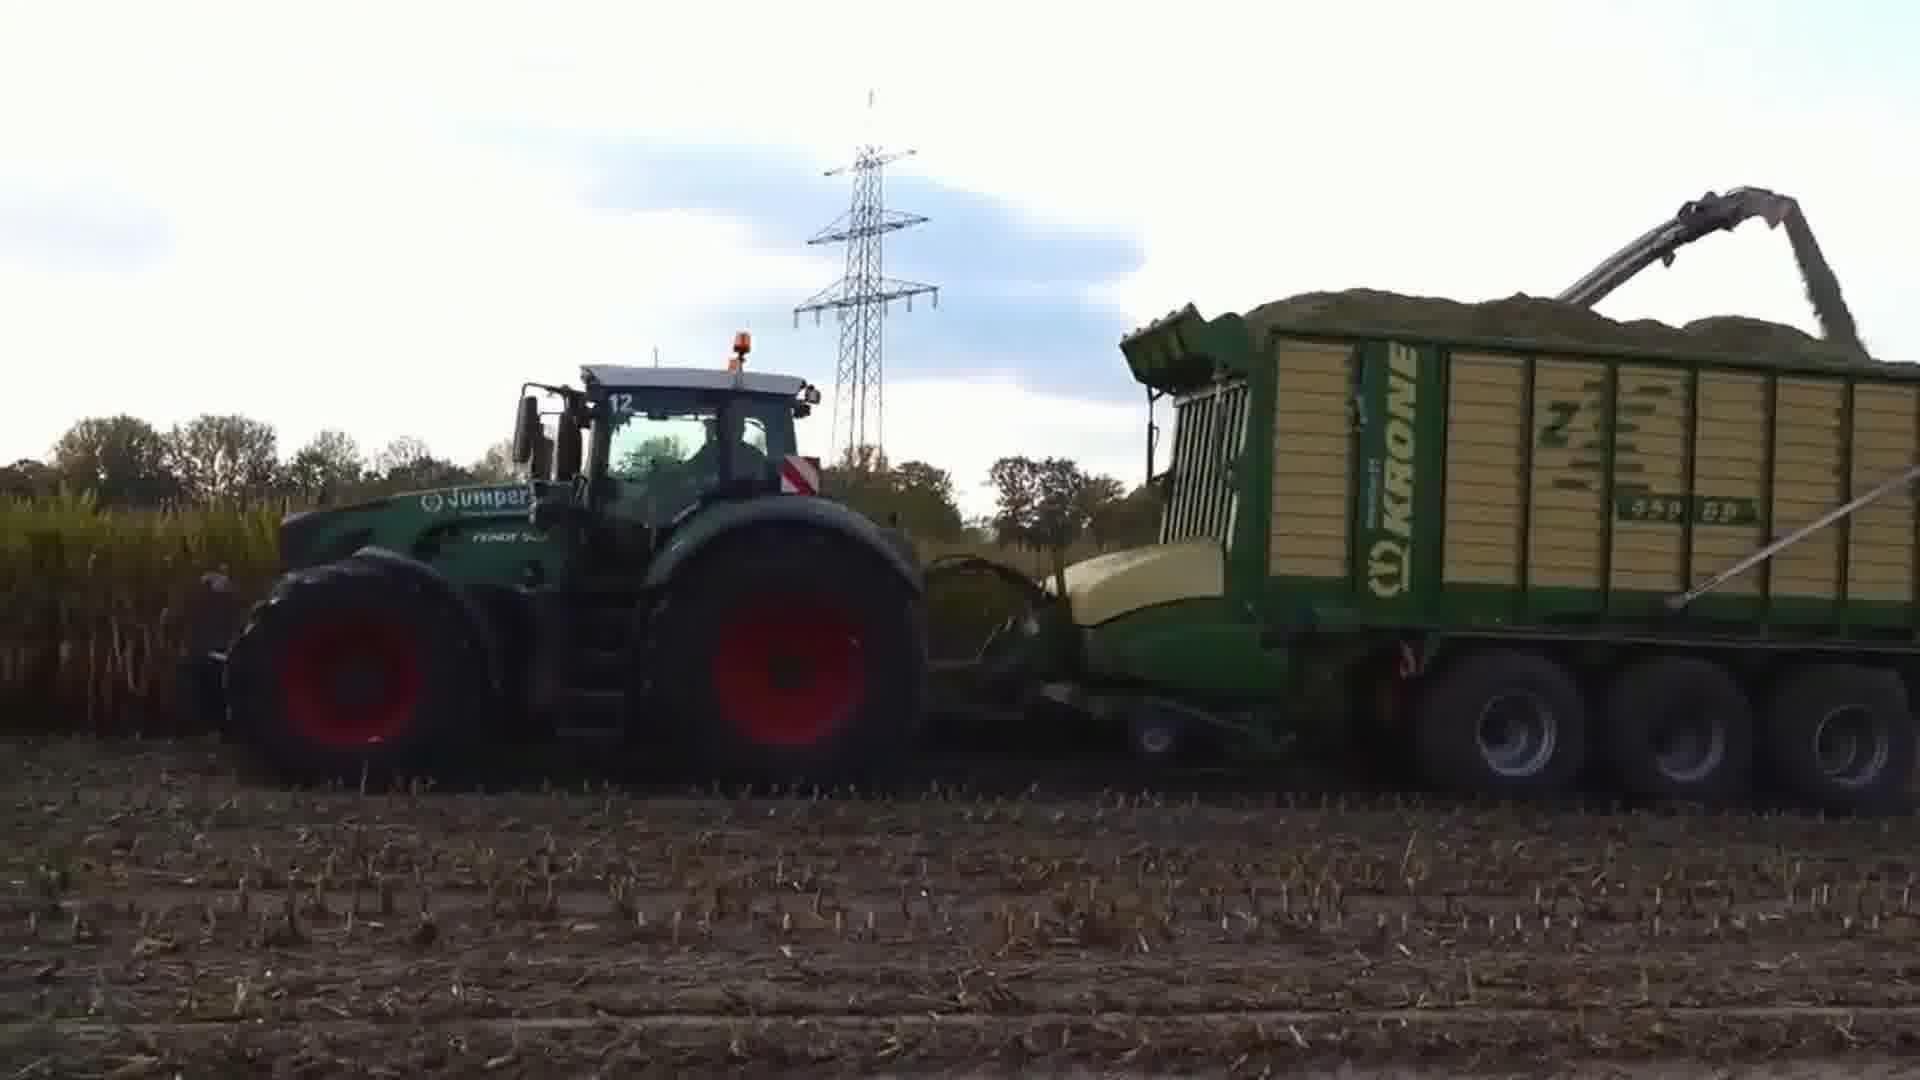tractor: (161, 314, 936, 800)
trailer: (993, 252, 1920, 828)
